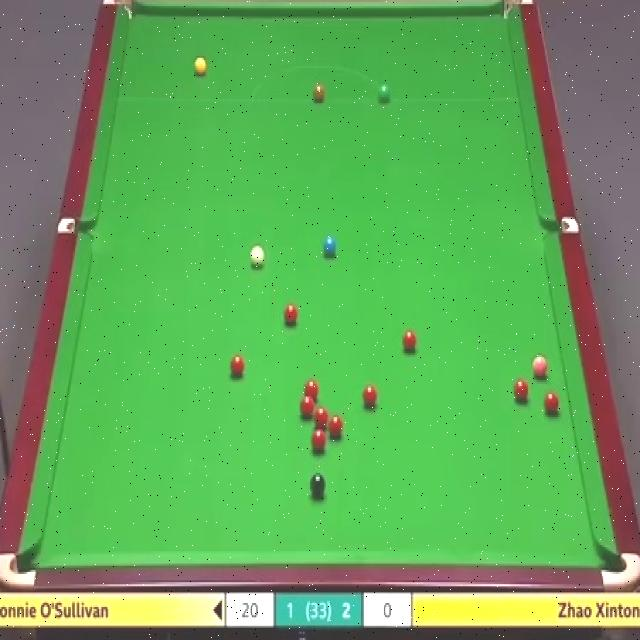black-ball: (309, 472, 326, 499)
blue-ball: (322, 234, 338, 256)
brown-ball: (312, 82, 325, 103)
green-ball: (378, 85, 391, 102)
pink-ball: (532, 353, 548, 380)
red-ball: (229, 353, 246, 381), (514, 378, 532, 403), (362, 383, 378, 408), (328, 416, 344, 440), (544, 392, 560, 415), (283, 304, 299, 326), (402, 330, 416, 353), (302, 379, 320, 396), (312, 430, 325, 453), (314, 409, 330, 427), (300, 395, 314, 411)
white-ball: (249, 241, 266, 267)
yellow-ball: (194, 57, 208, 78)
